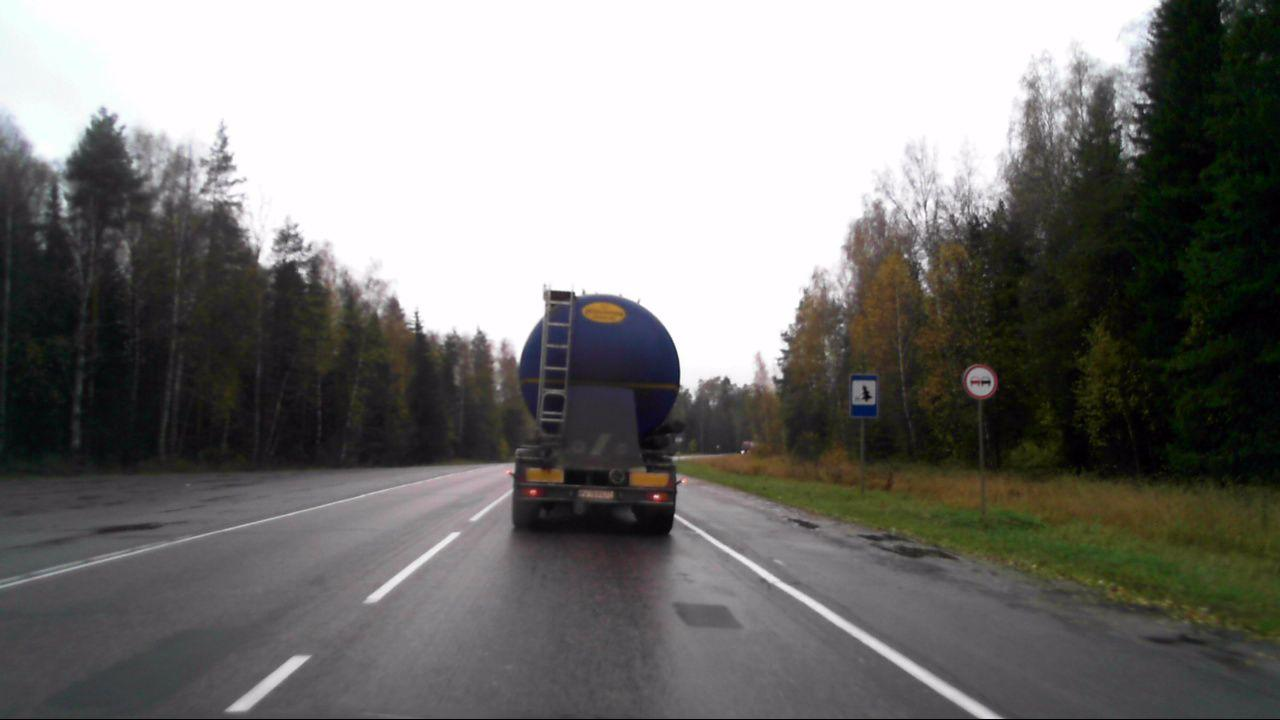3_20: (963, 361, 996, 398)
7_11: (847, 375, 878, 417)
